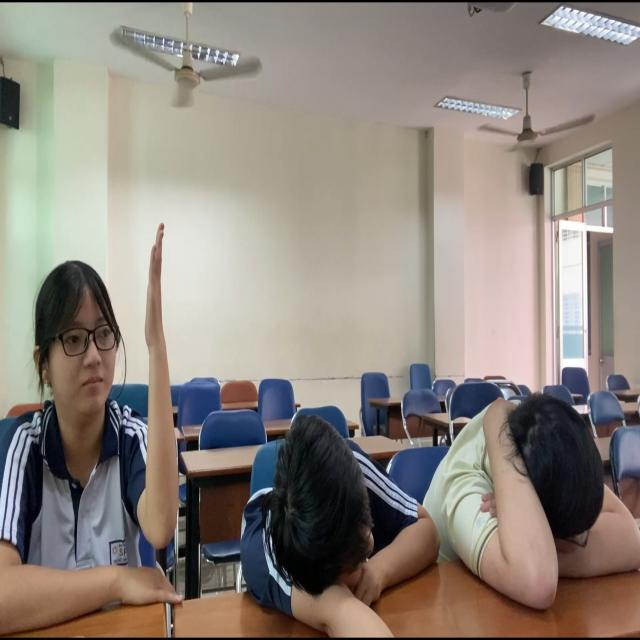raise_hand: (1, 199, 198, 637)
sleep: (462, 317, 640, 640), (216, 391, 434, 627)
